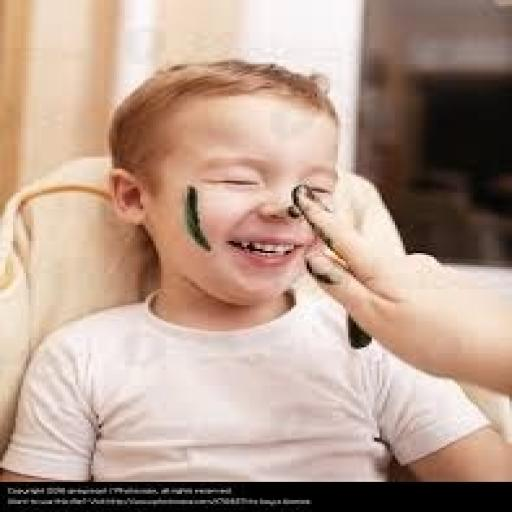laughing: (0, 50, 509, 479)
